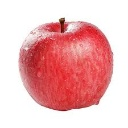apple: (18, 18, 115, 112)
